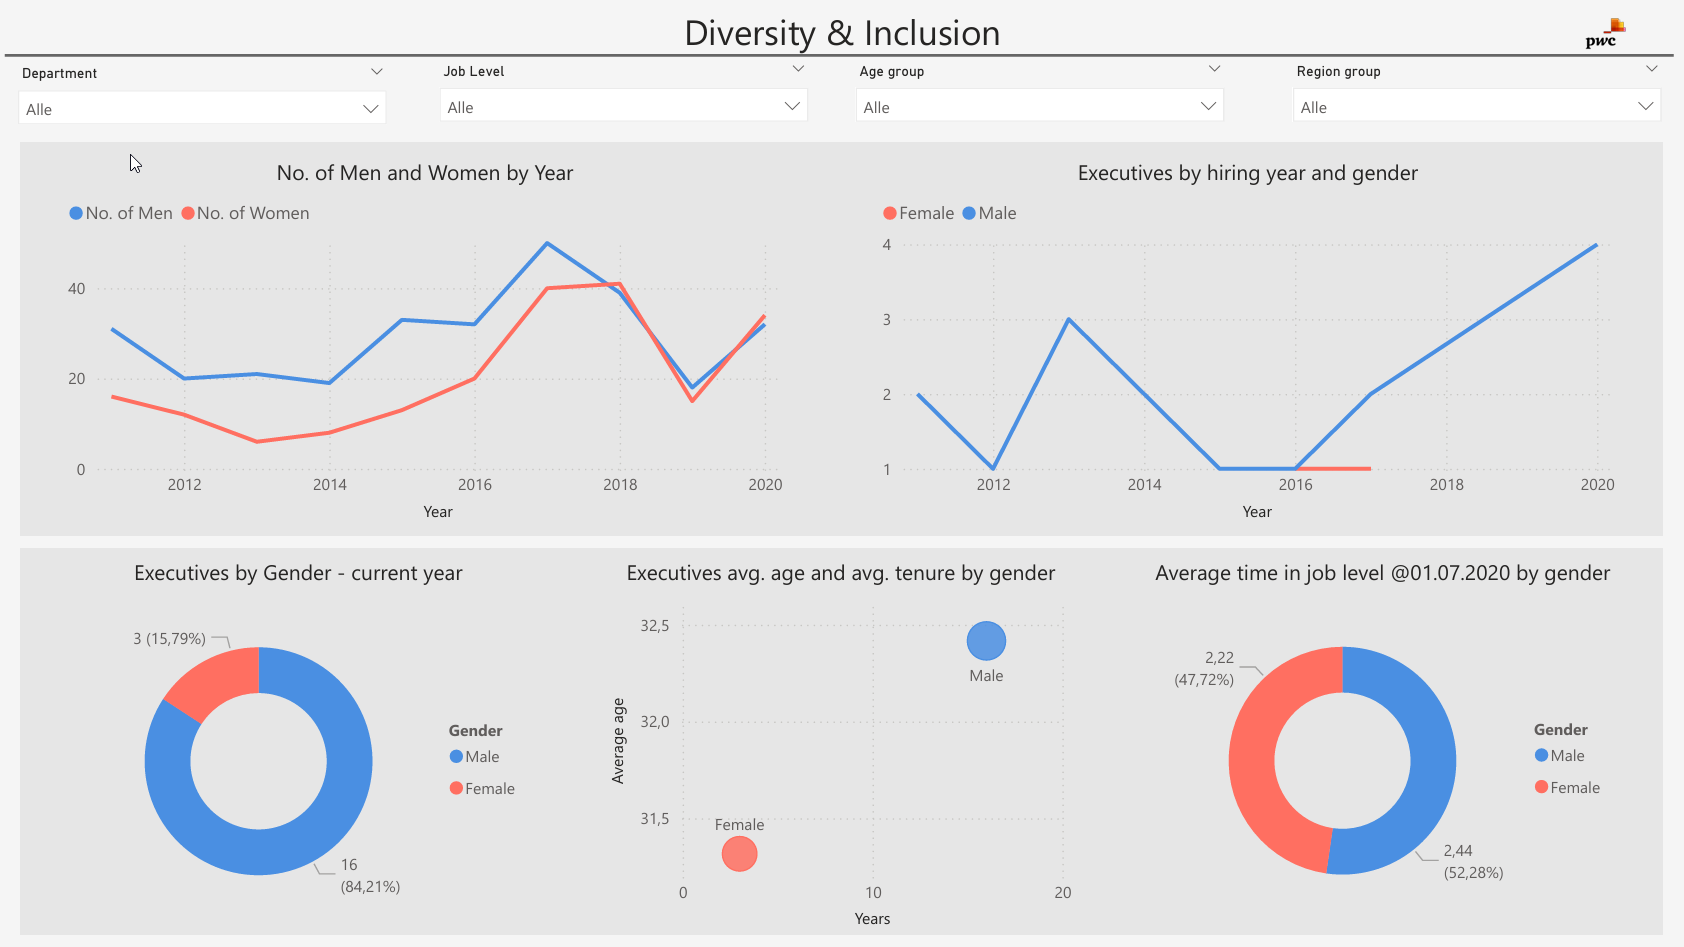

What the dashboard file says about the page in this screenshot:
{"tool":"powerbi","page":{"name":"Executive status","canvas":[1280,720],"ordinal":0},"visuals":[{"type":"shape","box":[15.5,107.7,1247.1,299.1],"z":0},{"type":"shape","box":[15.5,416.3,1247.1,293],"z":1000},{"type":"lineChart","title":"No. of Men and Women by Year","fields":{"Category":["Pharma Group AG.Last hire date.Variation.Datumshierarchie.Jahr","Pharma Group AG.Last hire date.Variation.Datumshierarchie.Quartal","Pharma Group AG.Last hire date.Variation.Datumshierarchie.Monat","Pharma Group AG.Last hire date.Variation.Datumshierarchie.Tag"],"Y":["Tabelle.No. of Men","Tabelle.No. of Women"]},"box":[46.5,118.9,552.4,281],"z":2000},{"type":"donutChart","title":"Executives by Gender - current year","fields":{"Category":["Pharma Group AG.Gender"],"Y":["Tabelle.Executives"]},"box":[46.5,423.2,360.3,286.1],"z":3000},{"type":"lineChart","title":"Executives by hiring year and gender","fields":{"Category":["Pharma Group AG.Last hire date.Variation.Datumshierarchie.Jahr","Pharma Group AG.Last hire date.Variation.Datumshierarchie.Quartal","Pharma Group AG.Last hire date.Variation.Datumshierarchie.Monat","Pharma Group AG.Last hire date.Variation.Datumshierarchie.Tag"],"Y":["Tabelle.Executives 20"],"Series":["Pharma Group AG.Gender"]},"box":[665.4,118.9,565.4,281],"z":4000},{"type":"scatterChart","title":"Executives avg. age and avg. tenure by gender","fields":{"Category":["Pharma Group AG.Gender"],"X":["Tabelle.Executives"],"Y":["Pharma Group AG.Age @01.07.2020"],"Size":["Avg(Pharma Group AG.Years since last hire)"]},"box":[458.6,423.2,360,286.3],"z":5000},{"type":"donutChart","title":"Average time in job level @01.07.2020 by gender","fields":{"Category":["Pharma Group AG.Gender"],"Y":["Avg(Pharma Group AG.Time in Job Level @01.07.2020)"]},"box":[870.5,423.2,360.3,285.3],"z":6000},{"type":"slicer","fields":{"Values":["Pharma Group AG.Department @01.07.2020"]},"box":[4,44.4,299.9,63.2],"z":7000},{"type":"slicer","fields":{"Values":["Pharma Group AG.Job Level after FY20 promotions"]},"box":[324.1,41.7,299.9,63.2],"z":8000},{"type":"slicer","fields":{"Values":["Pharma Group AG.Age group"]},"box":[640.1,41.7,299.9,63.2],"z":9000},{"type":"slicer","fields":{"Values":["Pharma Group AG.Region group: nationality 1"]},"box":[972.3,41.7,299.9,63.2],"z":10000},{"type":"textbox","box":[4,0,1272.1,47.1],"z":11000},{"type":"image","box":[1165.9,0,106.2,49.8],"z":12000},{"type":"shape","box":[4,36.3,1266.8,10.8],"z":13000}]}

Visuals, with their boxes in screenshot pixels (x1, y1, x2, y2), scaled from the page's 1280x720 canvas onto the 1684x947 screenshot:
shape: [x1=20, y1=142, x2=1661, y2=535]
shape: [x1=20, y1=548, x2=1661, y2=933]
"No. of Men and Women by Year" lineChart: [x1=61, y1=156, x2=788, y2=526]
"Executives by Gender - current year" donutChart: [x1=61, y1=557, x2=535, y2=933]
"Executives by hiring year and gender" lineChart: [x1=875, y1=156, x2=1619, y2=526]
"Executives avg. age and avg. tenure by gender" scatterChart: [x1=603, y1=557, x2=1077, y2=933]
"Average time in job level @01.07.2020 by gender" donutChart: [x1=1145, y1=557, x2=1619, y2=932]
slicer - Pharma Group AG.Department @01.07.2020: [x1=5, y1=58, x2=400, y2=142]
slicer - Pharma Group AG.Job Level after FY20 promotions: [x1=426, y1=55, x2=821, y2=138]
slicer - Pharma Group AG.Age group: [x1=842, y1=55, x2=1237, y2=138]
slicer - Pharma Group AG.Region group: nationality 1: [x1=1279, y1=55, x2=1674, y2=138]
textbox: [x1=5, y1=0, x2=1679, y2=62]
image: [x1=1534, y1=0, x2=1674, y2=66]
shape: [x1=5, y1=48, x2=1672, y2=62]
